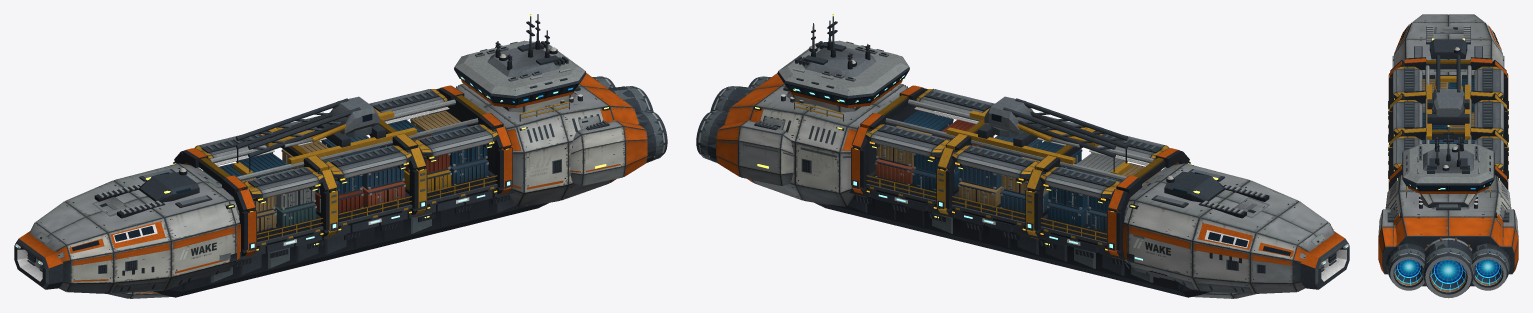
The model's file is wake-cargueiro.glb.
3 views of the same model, side by side, from view 1: azimuth 30°, elevation 25°; view 2: azimuth 150°, elevation 25°; view 3: azimuth 270°, elevation 25° (orthographic). The views are drawn at different scales.
Parts seen in each view (by area): view 1: 02 | Proa blindada, 06 | Castelo de popa, 01 | Espinha e quilha, 04 | Pórticos de carga, 05 | Guindaste de convés, 07 | Passadiço panorâmico, 12 | Galerias de serviço, 11 | Blindagem e encaixe da proa, 10 | Painéis de inspeção e ferragens, 03.3 | Porão e contêineres, 03.2 | Porão e contêineres, 03.1 | Porão e contêineres (+4 smaller); view 2: 02 | Proa blindada, 06 | Castelo de popa, 01 | Espinha e quilha, 04 | Pórticos de carga, 05 | Guindaste de convés, 07 | Passadiço panorâmico, 12 | Galerias de serviço, 11 | Blindagem e encaixe da proa, 10 | Painéis de inspeção e ferragens, 03.3 | Porão e contêineres, 03.2 | Porão e contêineres, 03.1 | Porão e contêineres (+4 smaller); view 3: 06 | Castelo de popa, 08 | Três propulsores, 07 | Passadiço panorâmico, 02 | Proa blindada, 04 | Pórticos de carga, 12 | Galerias de serviço, 05 | Guindaste de convés, 14 | Fechos de carga e balizas, 10 | Painéis de inspeção e ferragens, 09 | Escotilhas e luzes de navegação, 03.2 | Porão e contêineres, 03.1 | Porão e contêineres (+1 smaller).
Part boxes in pixels (<box>): 02 | Proa blindada: <box>29,163,240,293</box>; 06 | Castelo de popa: <box>445,73,647,206</box>; 01 | Espinha e quilha: <box>153,170,549,297</box>; 04 | Pórticos de carga: <box>173,85,512,259</box>; 05 | Guindaste de convés: <box>209,96,478,180</box>; 07 | Passadiço panorâmico: <box>454,14,586,112</box>; 12 | Galerias de serviço: <box>194,89,498,247</box>; 11 | Blindagem e encaixe da proa: <box>14,224,242,298</box>; 10 | Painéis de inspeção e ferragens: <box>28,41,638,291</box>; 03.3 | Porão e contêineres: <box>370,110,497,206</box>; 03.2 | Porão e contêineres: <box>281,135,412,227</box>; 03.1 | Porão e contêineres: <box>203,152,323,247</box>; 02 | Proa blindada: <box>1123,163,1334,293</box>; 06 | Castelo de popa: <box>716,73,918,206</box>; 01 | Espinha e quilha: <box>814,170,1210,297</box>; 04 | Pórticos de carga: <box>851,85,1190,259</box>; 05 | Guindaste de convés: <box>885,96,1154,180</box>; 07 | Passadiço panorâmico: <box>777,14,909,112</box>; 12 | Galerias de serviço: <box>865,88,1169,247</box>; 11 | Blindagem e encaixe da proa: <box>1123,224,1349,298</box>; 10 | Painéis de inspeção e ferragens: <box>729,41,1336,293</box>; 03.3 | Porão e contêineres: <box>866,110,993,206</box>; 03.2 | Porão e contêineres: <box>951,135,1082,227</box>; 03.1 | Porão e contêineres: <box>1040,152,1160,247</box>; 06 | Castelo de popa: <box>1378,175,1518,286</box>; 08 | Três propulsores: <box>1386,237,1510,298</box>; 07 | Passadiço panorâmico: <box>1402,125,1494,207</box>; 02 | Proa blindada: <box>1393,14,1503,78</box>; 04 | Pórticos de carga: <box>1387,57,1509,189</box>; 12 | Galerias de serviço: <box>1393,66,1503,170</box>; 05 | Guindaste de convés: <box>1425,55,1471,143</box>; 14 | Fechos de carga e balizas: <box>1389,67,1507,182</box>; 10 | Painéis de inspeção e ferragens: <box>1387,20,1510,245</box>; 09 | Escotilhas e luzes de navegação: <box>1397,29,1499,217</box>; 03.2 | Porão e contêineres: <box>1393,112,1503,143</box>; 03.1 | Porão e contêineres: <box>1422,79,1474,129</box>.
Size of the model in its own units: 24.4 by 6.77 by 5.78.
36 materials, 32 textured.
